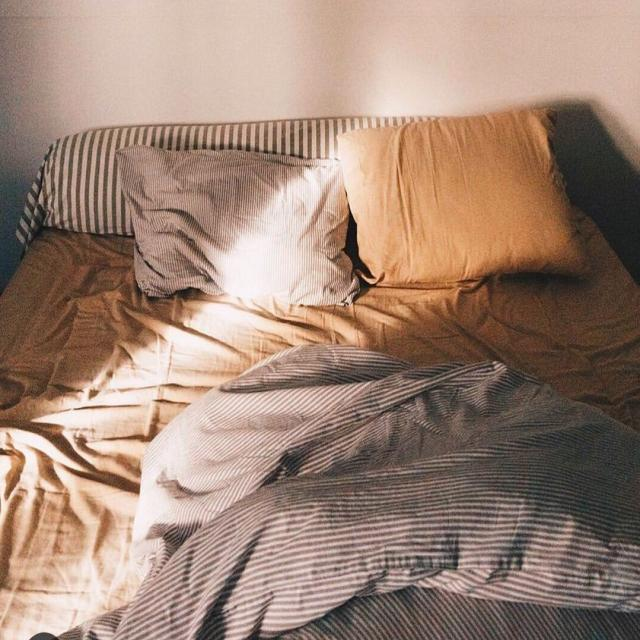bed: (11, 73, 640, 640)
